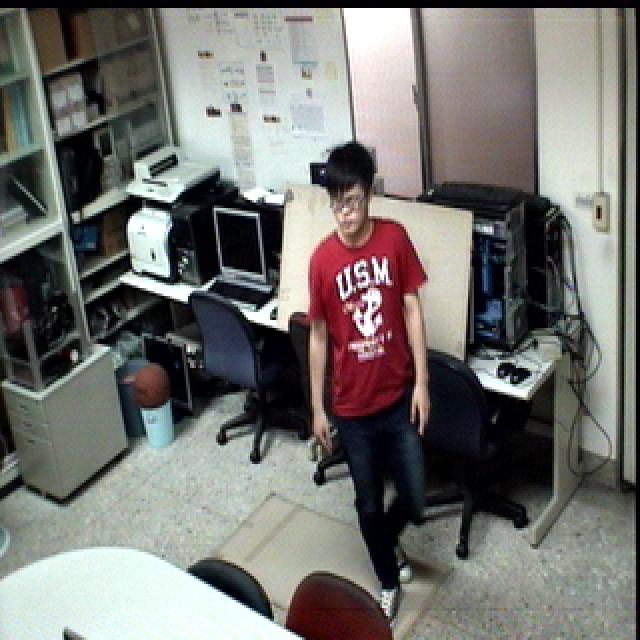stand: (303, 128, 436, 616)
